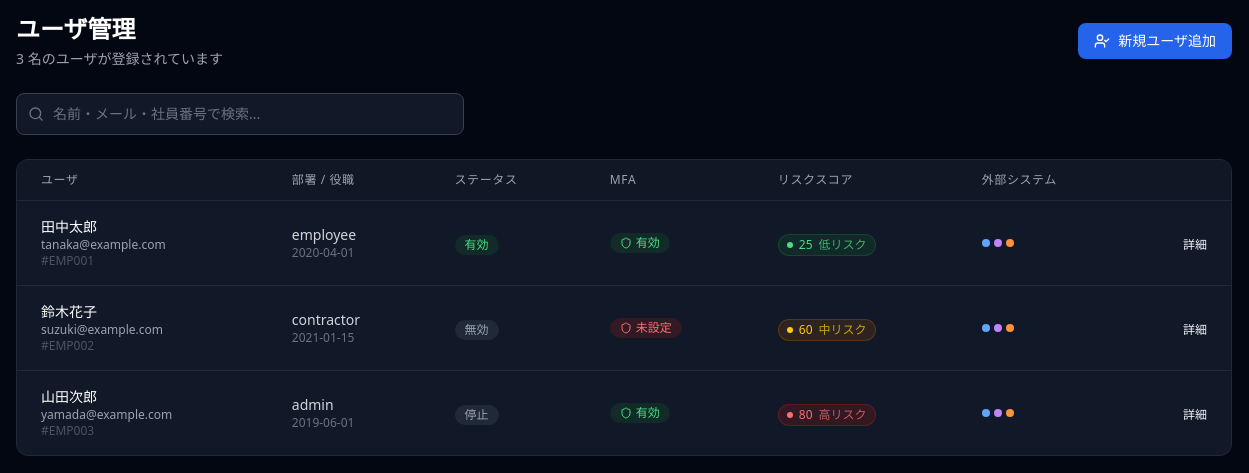
UsersPage › 検索結果が0件の時に「ユーザが見つかりません」表示
This screenshot has width=1249, height=473.
Type "存在しないユーザ" into the field with placeholder "名前・メール・社員番号で検索..." at (240, 114), box [16, 93, 464, 135]
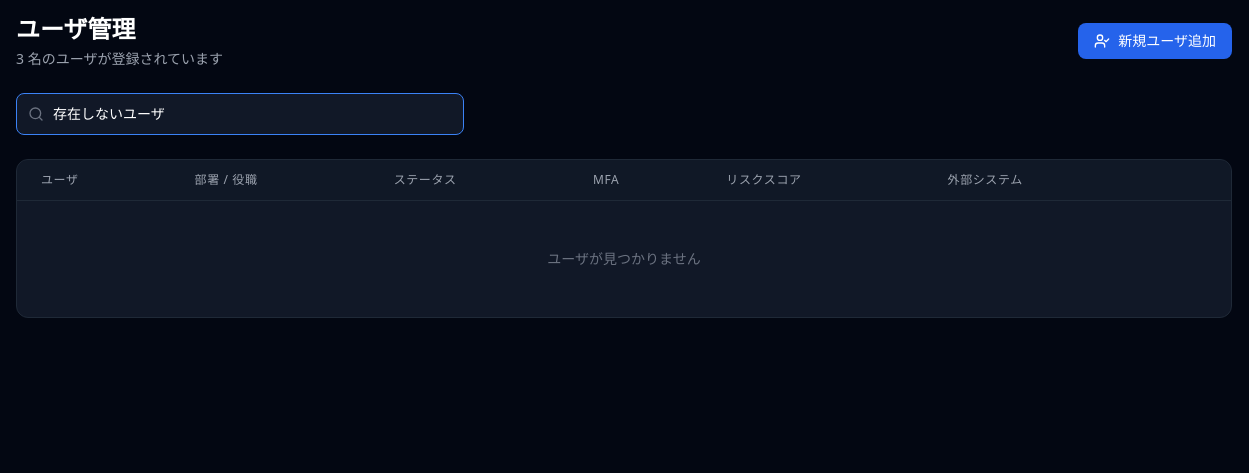
Expected: the text "ユーザが見つかりません" is shown, [17, 200, 1231, 317]
